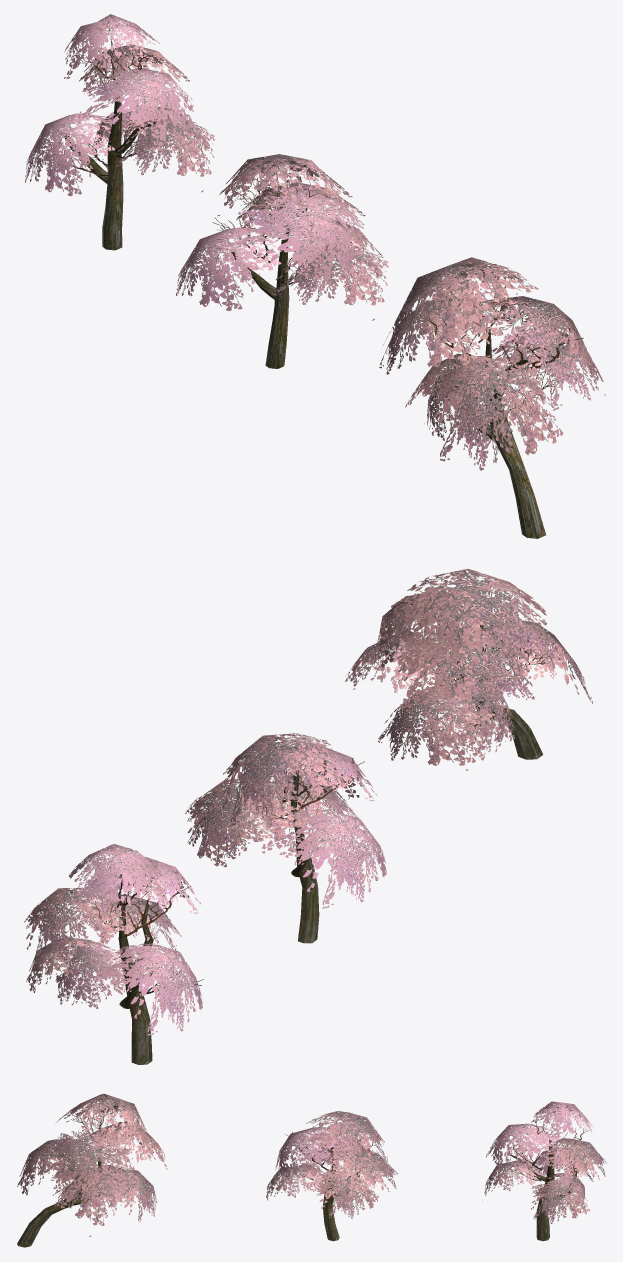
File: cherryTree.obj
3 views of the same model, one above another, from view 1: azimuth 30°, elevation 25°; view 2: azimuth 150°, elevation 25°; view 3: azimuth 270°, elevation 25° (orthographic). The views are drawn at different scales.
Visible parts, largest first — view 1: Object001, Object002, Birch_1; view 2: Object001, Birch_1, Object002; view 3: Object001, Object002, Birch_1.
Boxes of the visible parts, x1,y1,x2,y2 form: Object001: [379, 257, 605, 538]; Object002: [176, 154, 388, 368]; Birch_1: [25, 14, 214, 250]; Object001: [345, 569, 592, 770]; Birch_1: [24, 844, 203, 1064]; Object002: [185, 733, 386, 943]; Object001: [17, 1093, 167, 1247]; Object002: [266, 1111, 397, 1241]; Birch_1: [484, 1101, 606, 1241].
Size of the model in its own units: 2.66 by 2.53 by 9.45.
